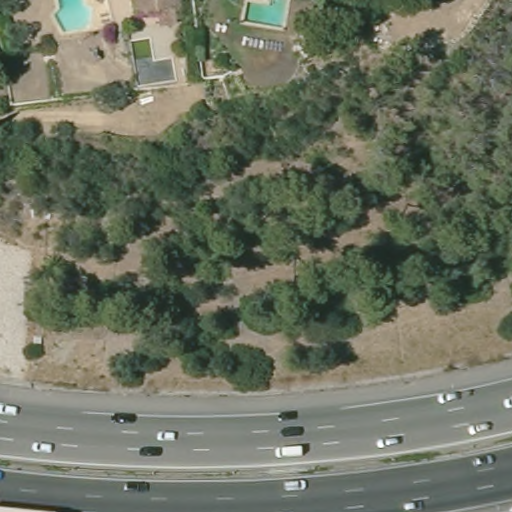pool: (44, 1, 99, 41), (235, 1, 295, 31)
